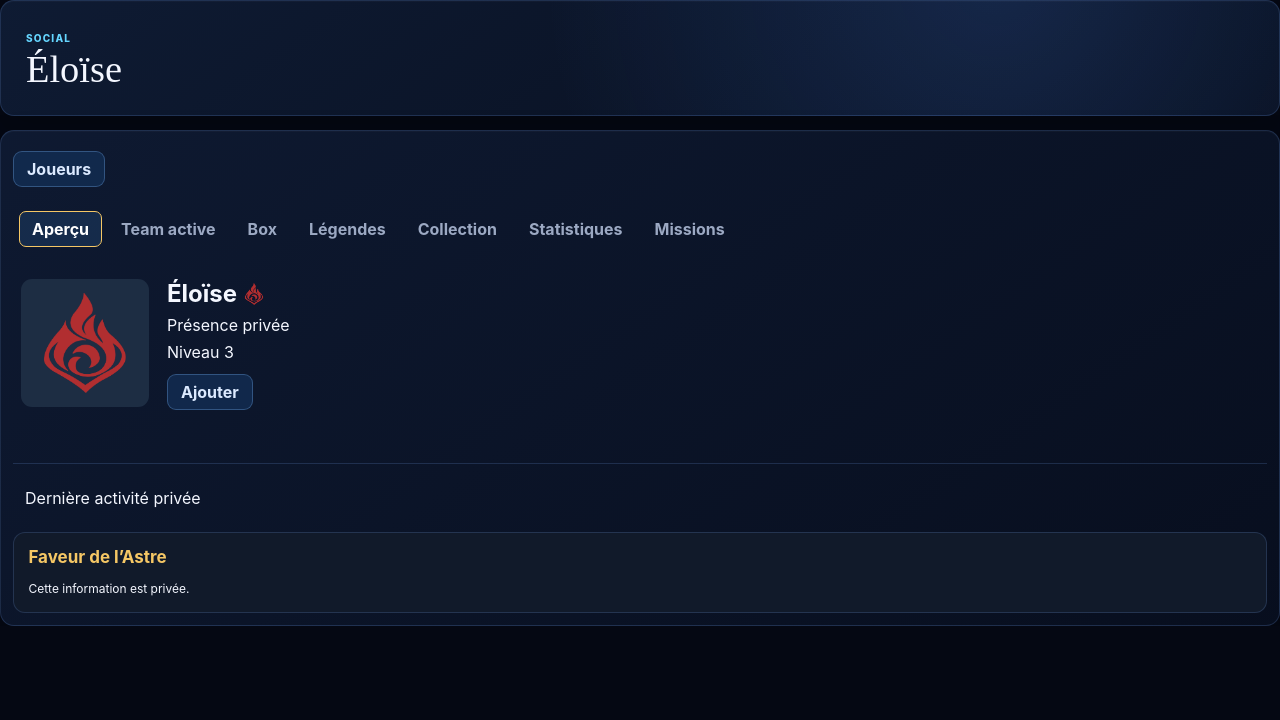
Test: Social UI › does not show Box controls or leak cards through a private projection
Click the button "Box" at coordinates (262, 229), box x1=235 y1=211 x2=290 y2=247
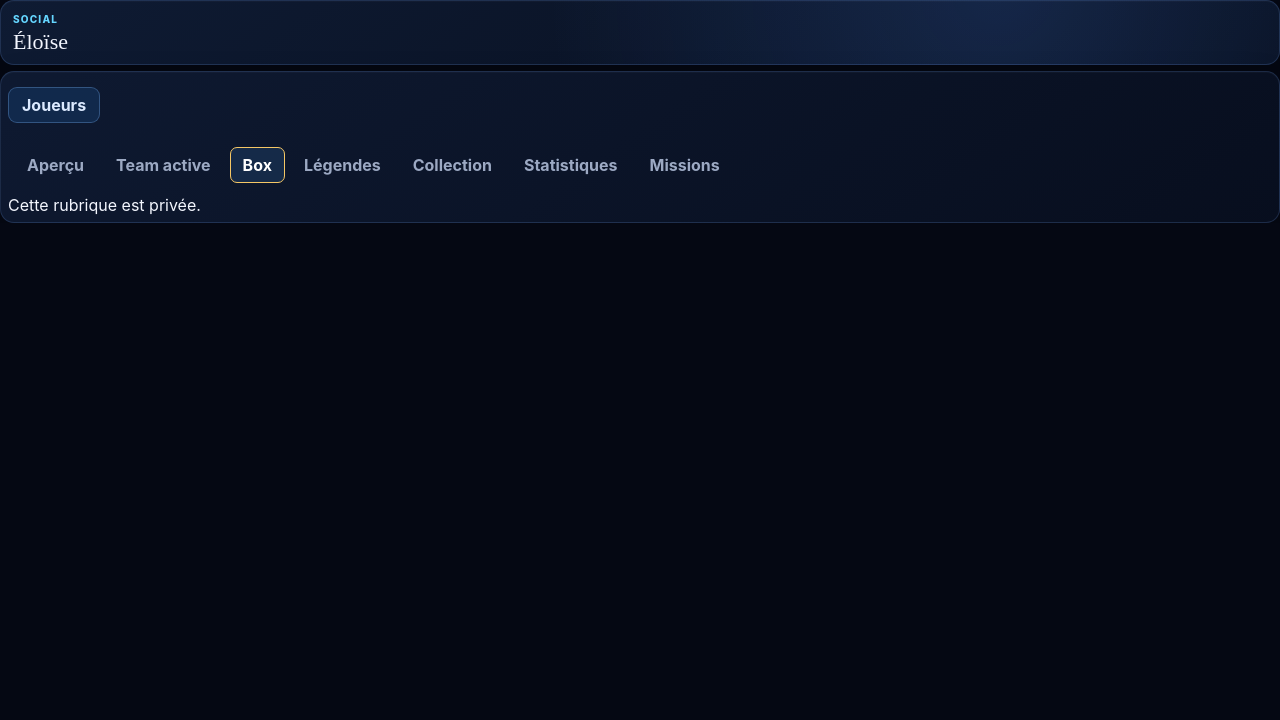
expect the text "Cette rubrique est privée." is shown: met, box x1=8 y1=195 x2=201 y2=215
